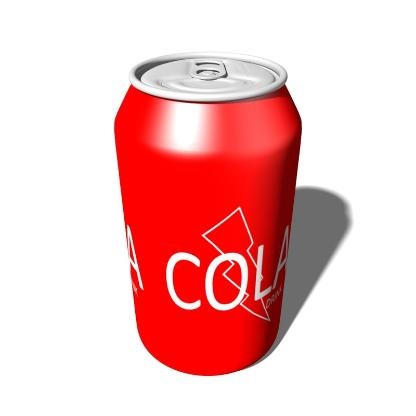Can: (115, 54, 301, 375)
